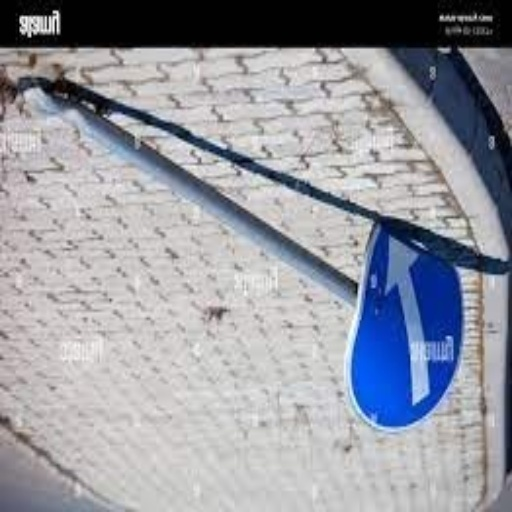Keep right: (321, 199, 476, 449)
